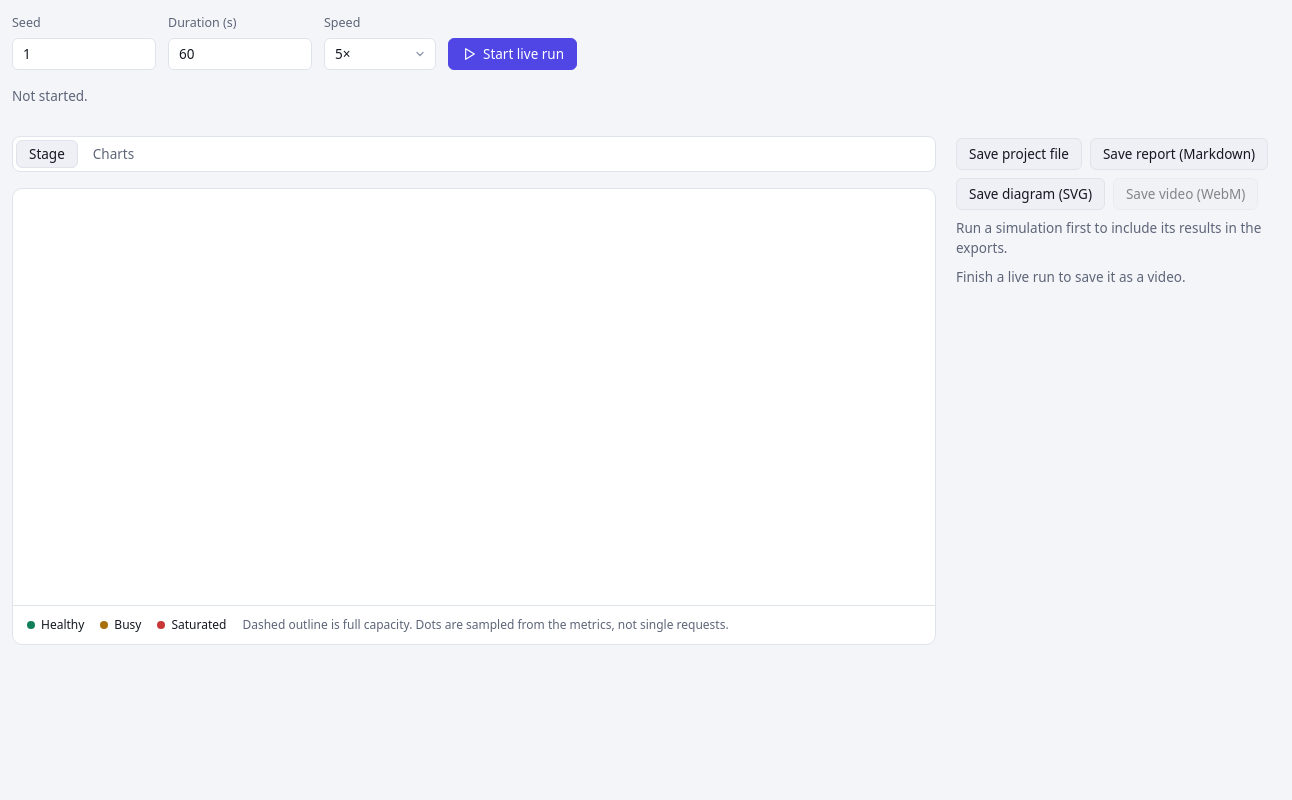
Test case: LivePanel › pauses, resumes and stops through the controller
The image size is (1292, 800).
Step 1. Click the button "Start live run" → (512, 54), box x1=448 y1=38 x2=577 y2=70
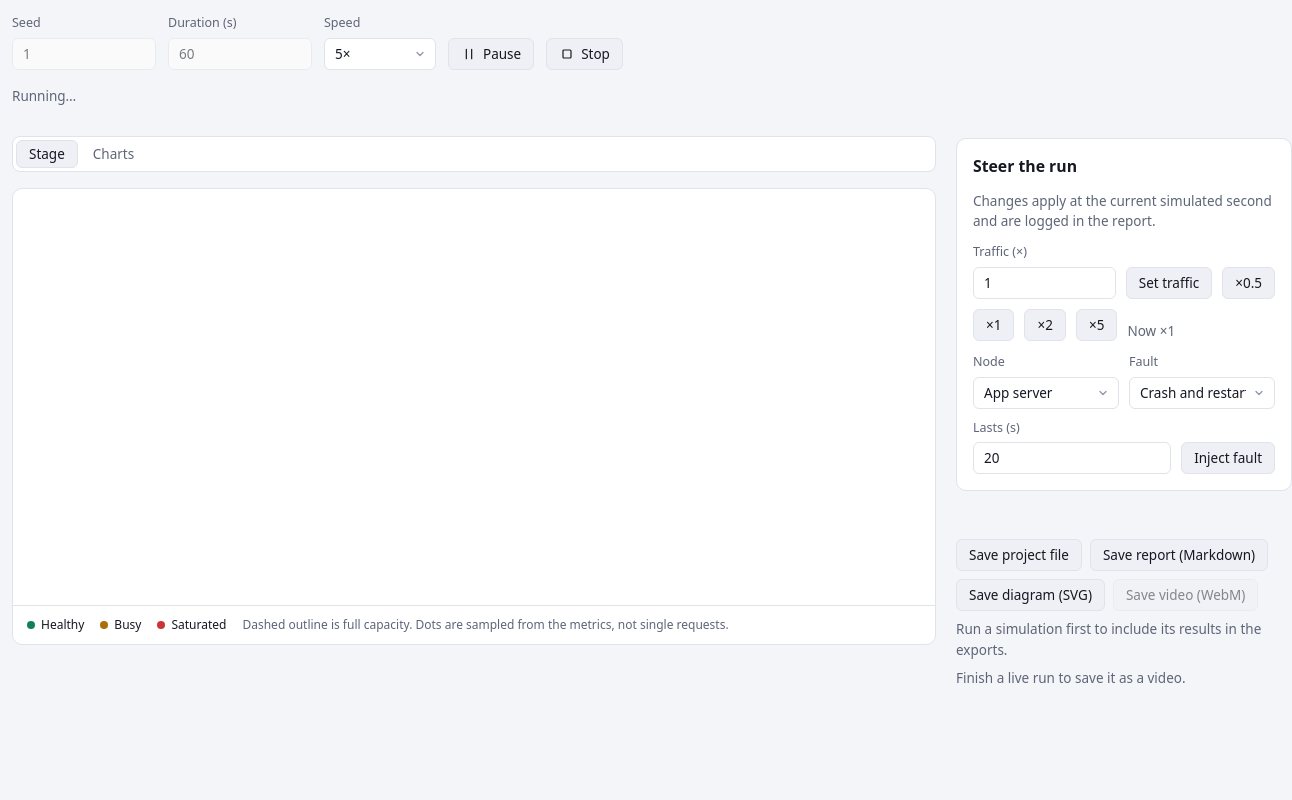
Step 2. Click the button "Pause" → (491, 54), box x1=448 y1=38 x2=534 y2=70
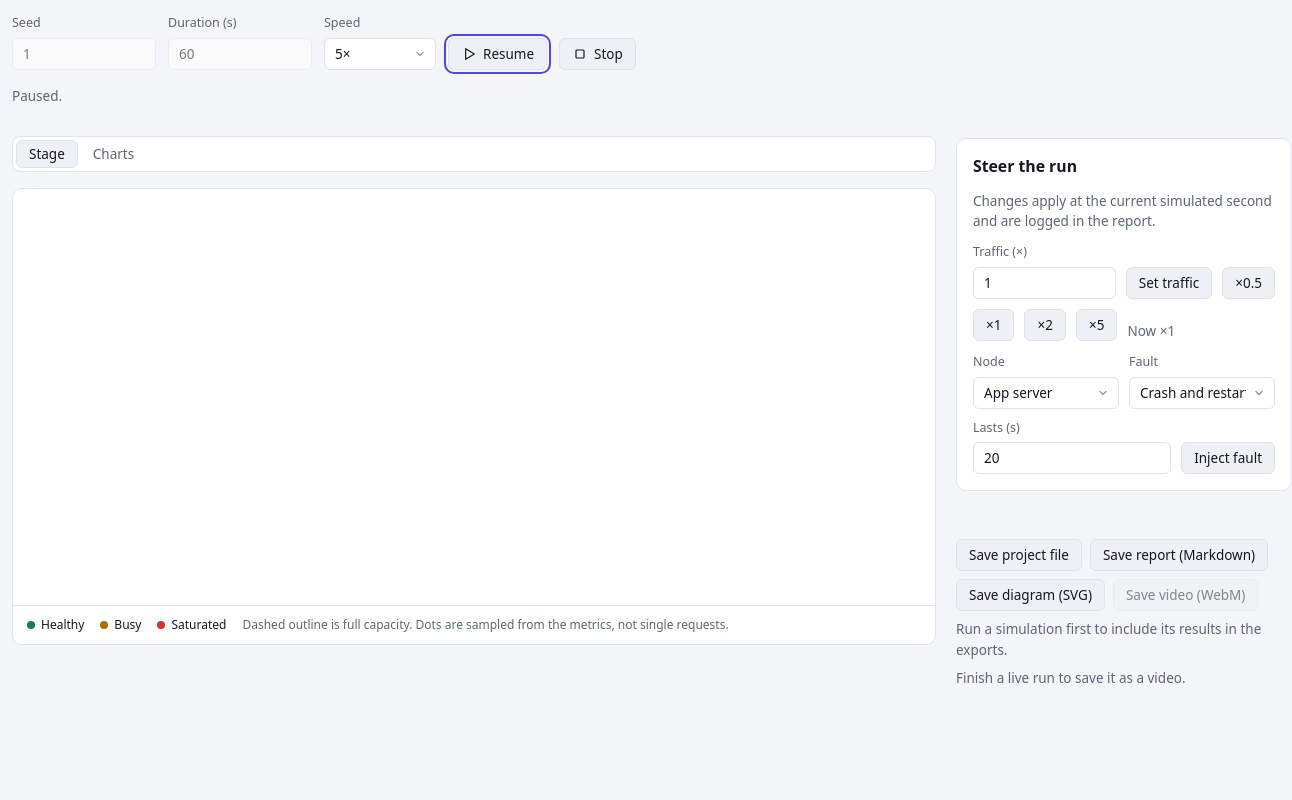
Result: the text "Paused." is shown at x1=12 y1=87 x2=62 y2=105
Step 3. Click the button "Resume" → (498, 54), box x1=448 y1=38 x2=547 y2=70
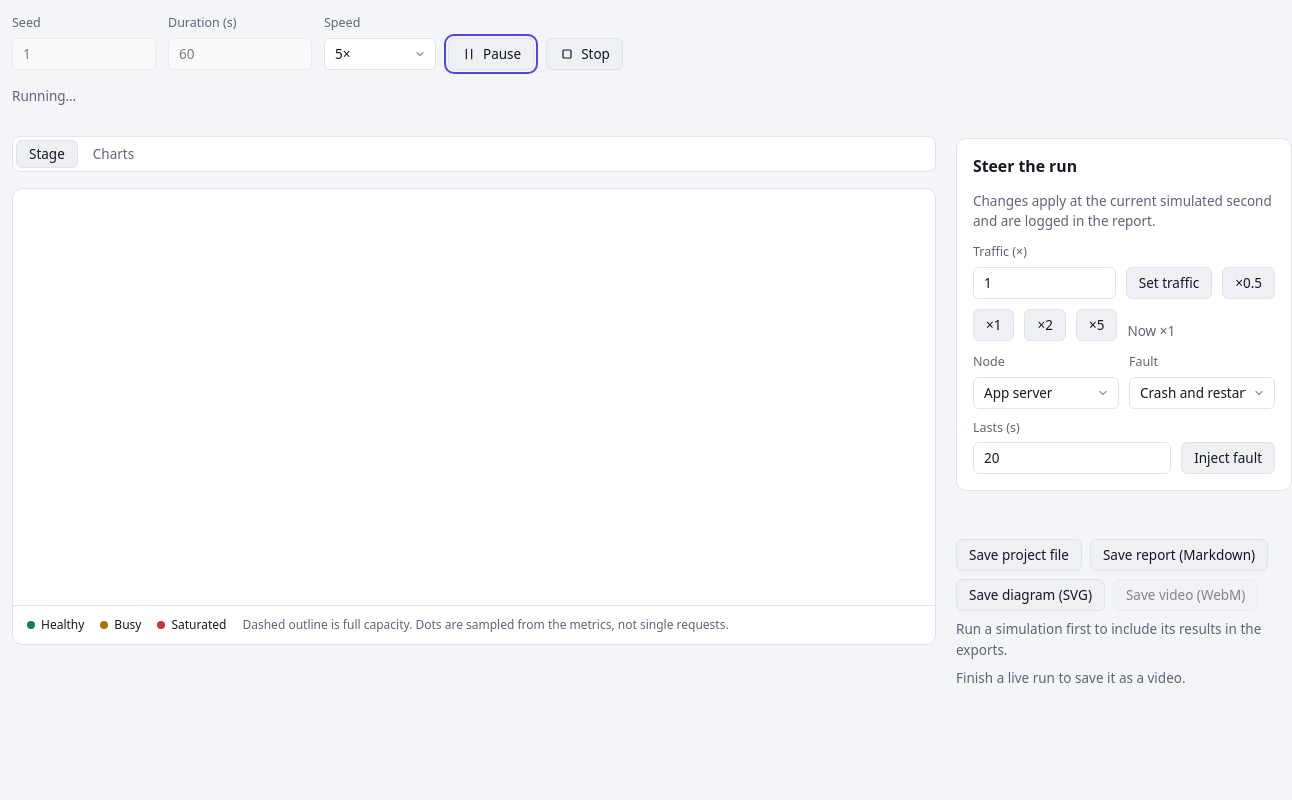
Step 4. Click the button "Stop" → (585, 54), box x1=546 y1=38 x2=623 y2=70
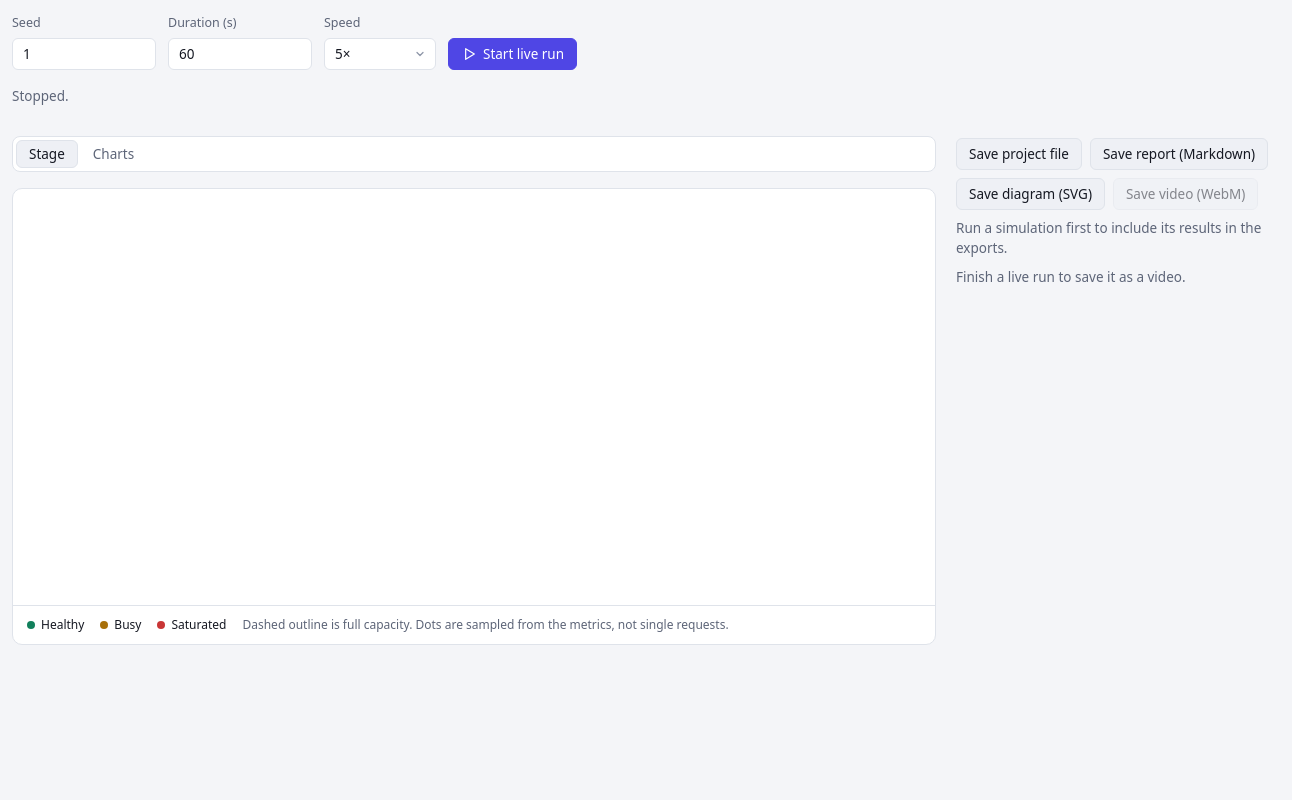
Result: the text "Stopped." is shown at x1=12 y1=87 x2=69 y2=105
